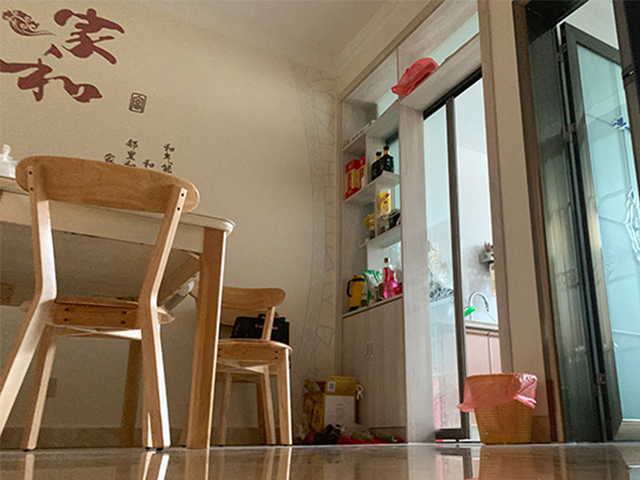cabinet: (335, 297, 419, 443)
stool: (1, 154, 202, 451), (210, 285, 294, 447)
table: (1, 173, 237, 450)
trashcan: (465, 373, 538, 445)
